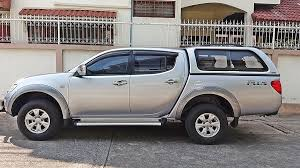pickup: (1, 44, 283, 144)
